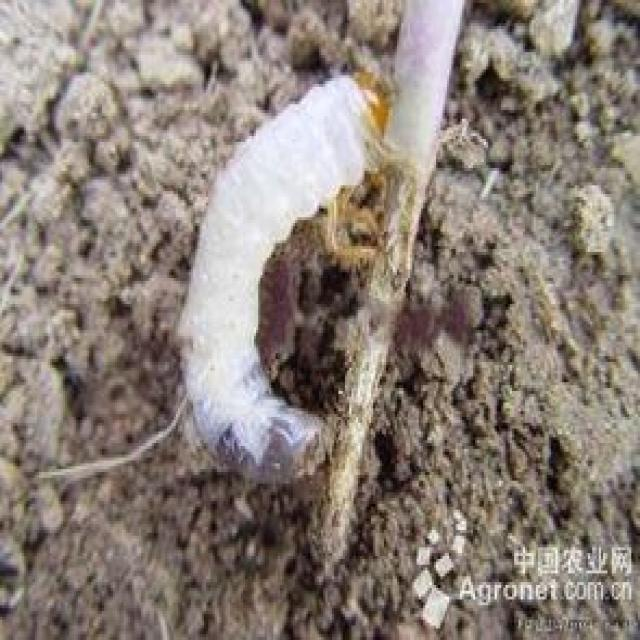grub: (180, 60, 390, 486)
